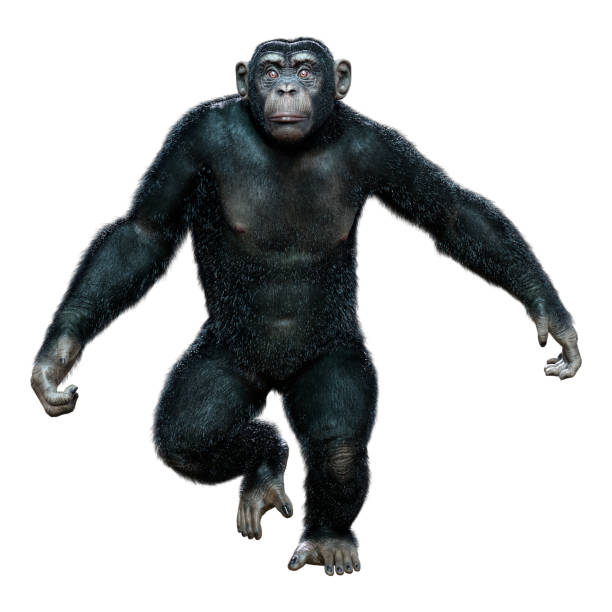chimpanzee: (207, 16, 398, 189)
